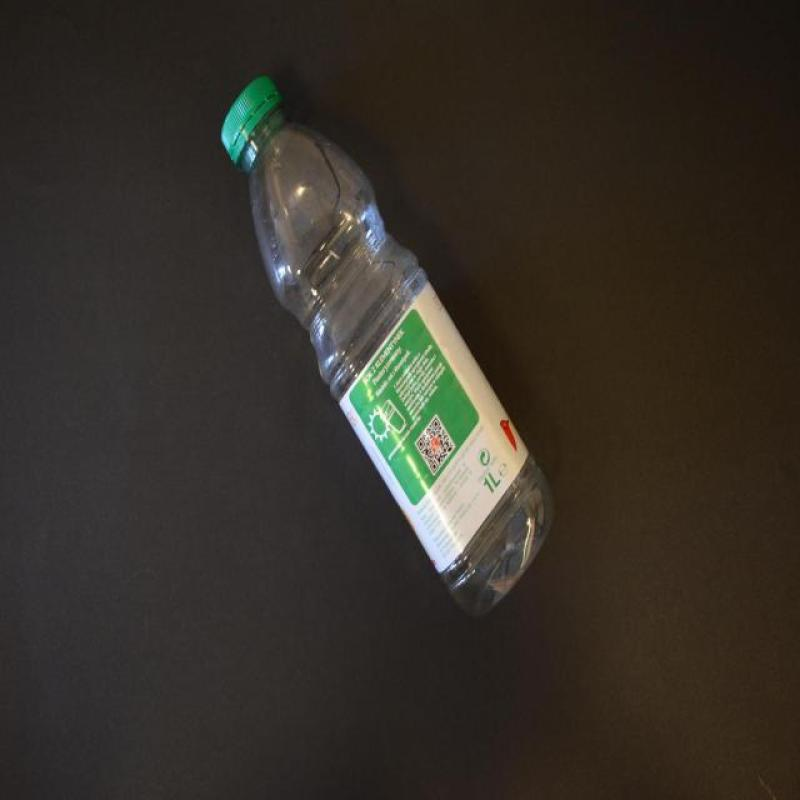botella: (222, 77, 556, 618)
